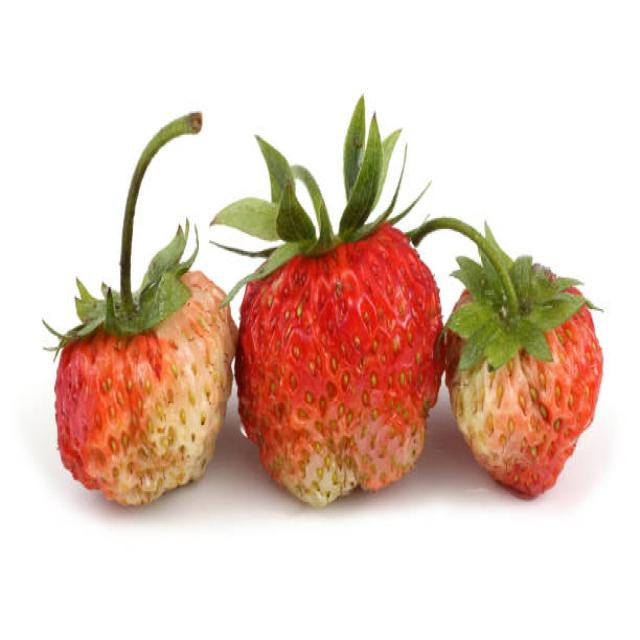Healthy Fruit: (236, 222, 444, 503), (55, 272, 237, 506), (445, 283, 602, 497)
